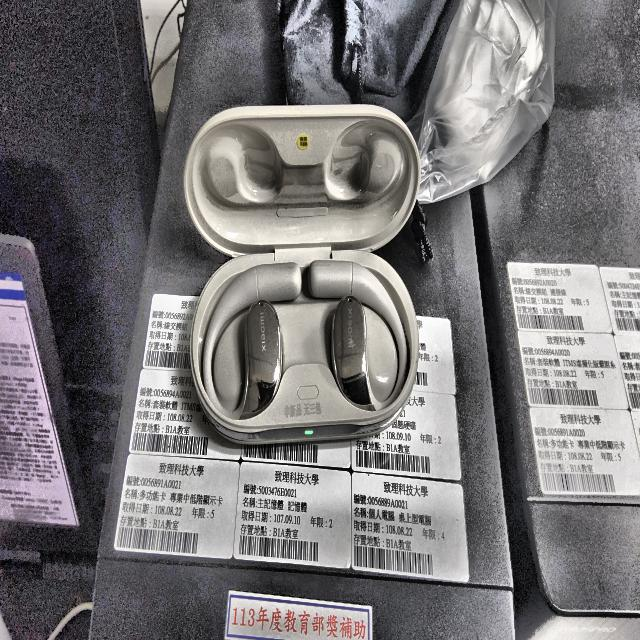Bluetooth headphones: (183, 105, 420, 444)
Screen: (0, 235, 79, 526)
